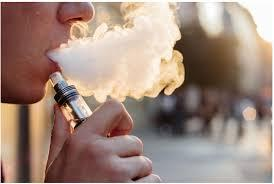smoker: (1, 2, 187, 181)
